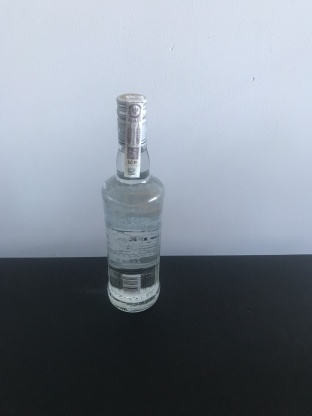nakretka: (113, 90, 150, 148)
